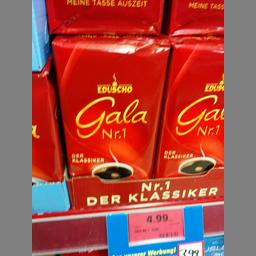coffee: (49, 33, 168, 178), (153, 36, 224, 174)
